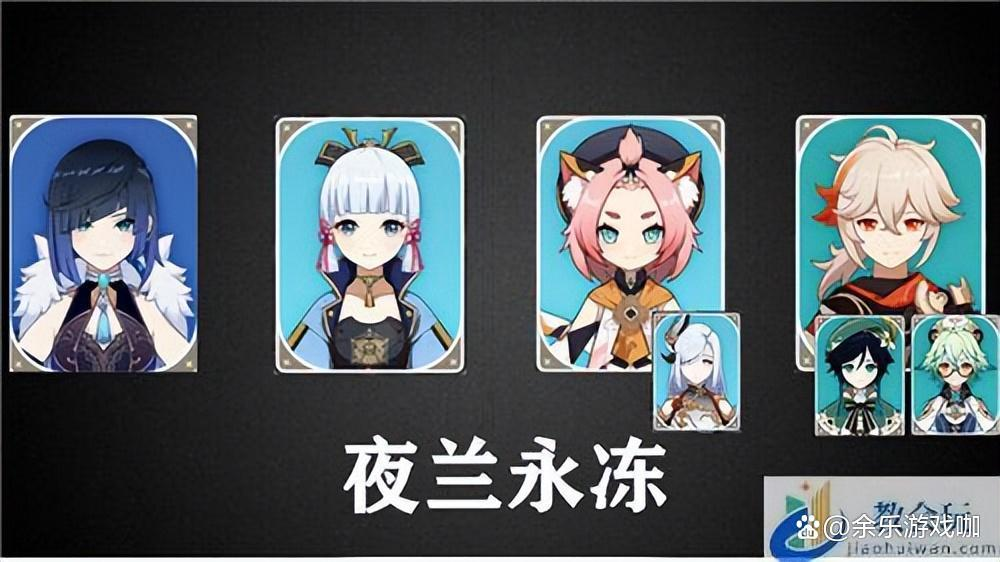夜兰: (15, 143, 196, 373)
